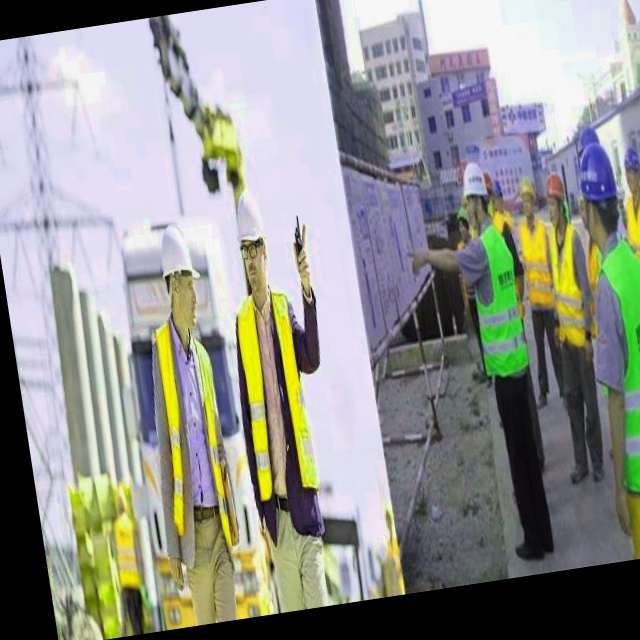Con_Casco: (155, 219, 206, 330), (230, 186, 272, 287)
Con_Chaleco: (227, 287, 324, 498), (147, 328, 237, 539), (587, 243, 640, 480), (465, 227, 532, 379), (517, 216, 557, 308)
